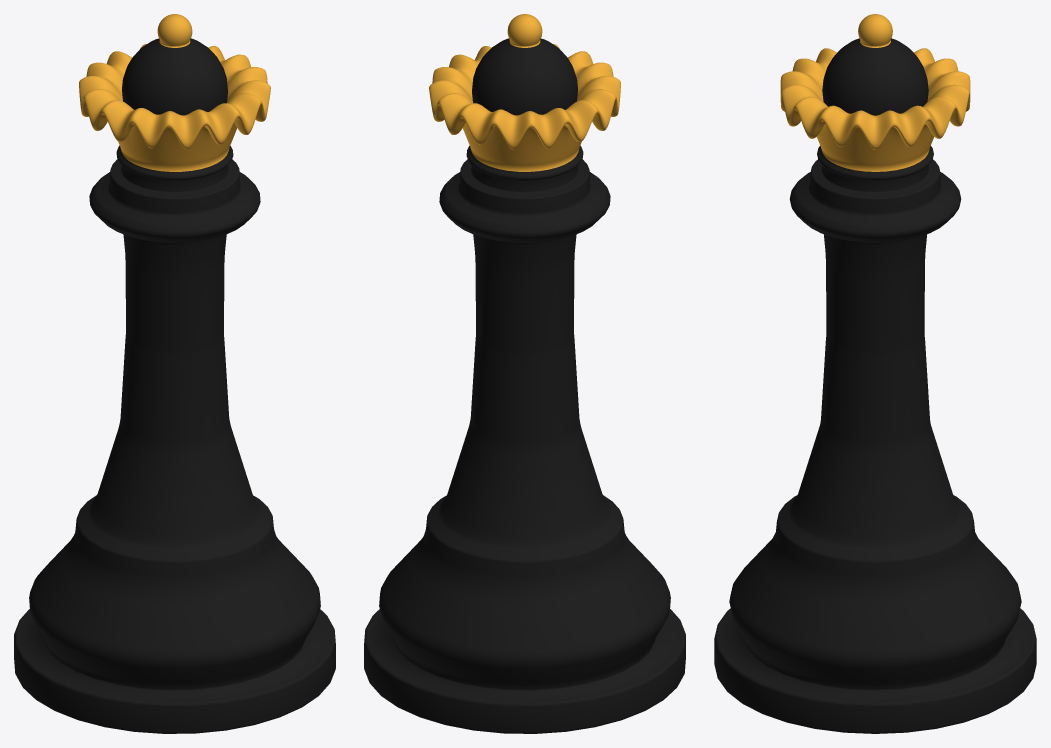
File: gercek6_q_b.glb
3 renders of one model, left to right at view 1: azimuth 30°, elevation 25°; view 2: azimuth 150°, elevation 25°; view 3: azimuth 270°, elevation 25°, orthographic.
Parts seen in each view (by area): view 1: Circle.035; view 2: Circle.035; view 3: Circle.035.
Boxes of the visible parts, x1,y1,x2,y2 form: Circle.035: (14, 14, 335, 733); Circle.035: (364, 14, 685, 733); Circle.035: (714, 14, 1036, 733).
Bounding box in the file's own units: 33.56 × 74.82 × 33.56.
